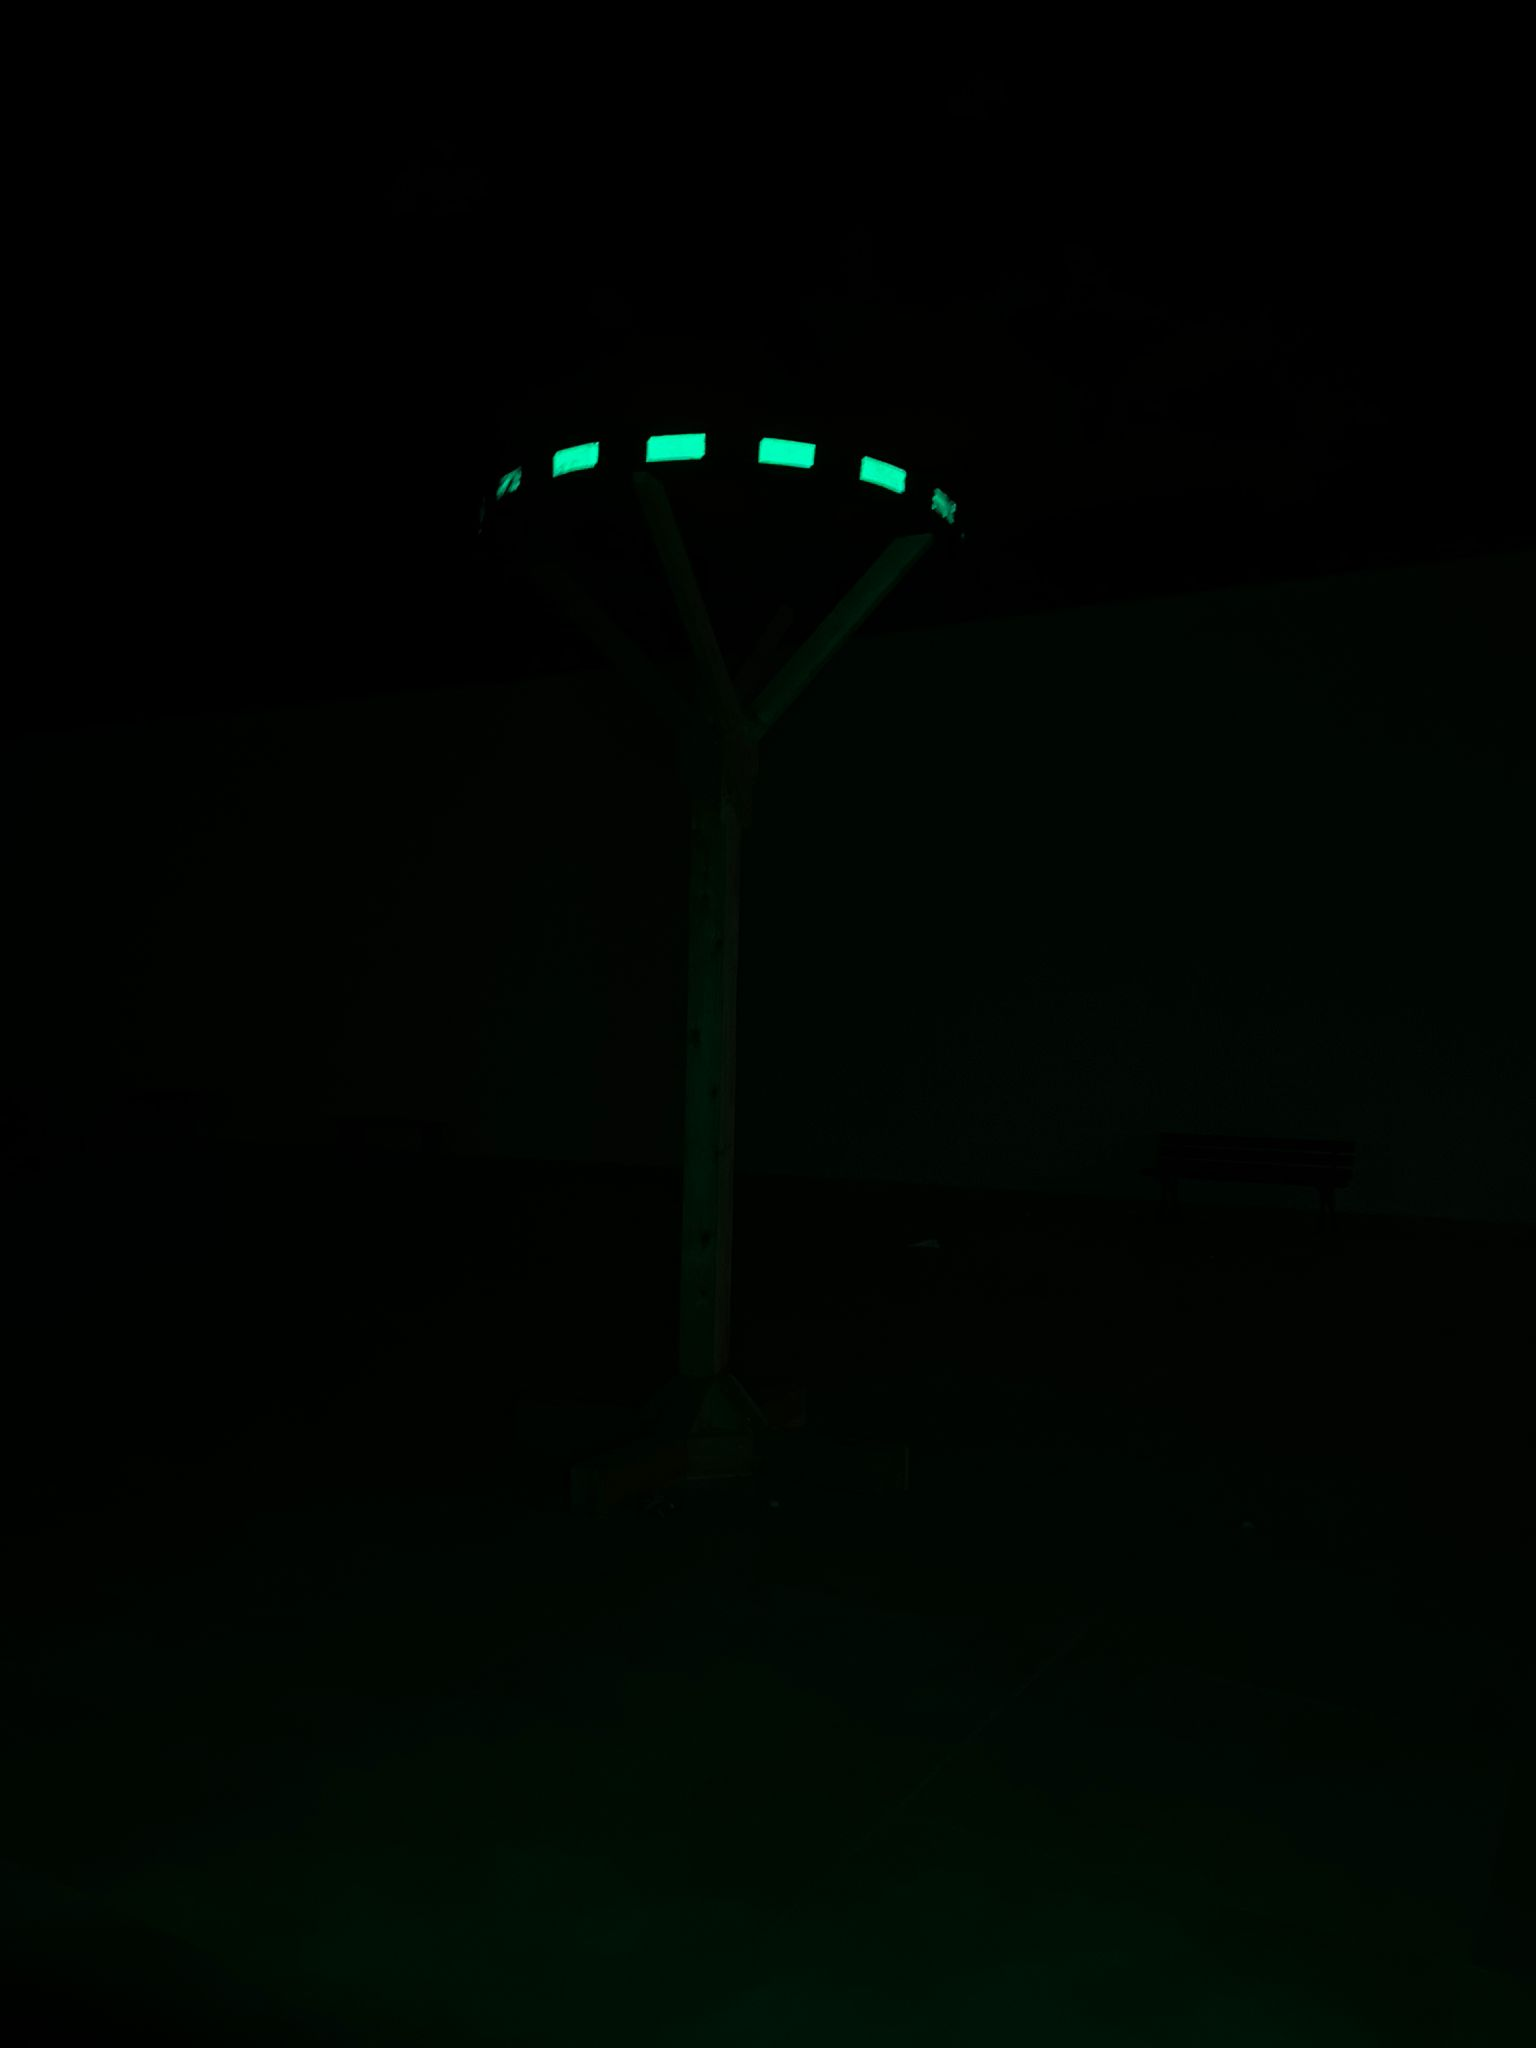hoop: (479, 418, 960, 531)
